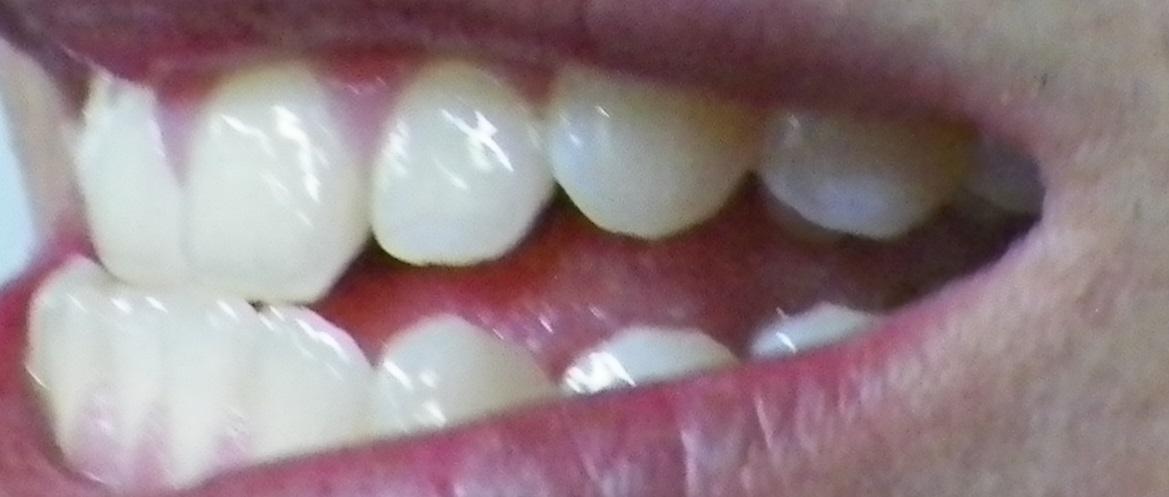boca: (30, 63, 962, 470)
